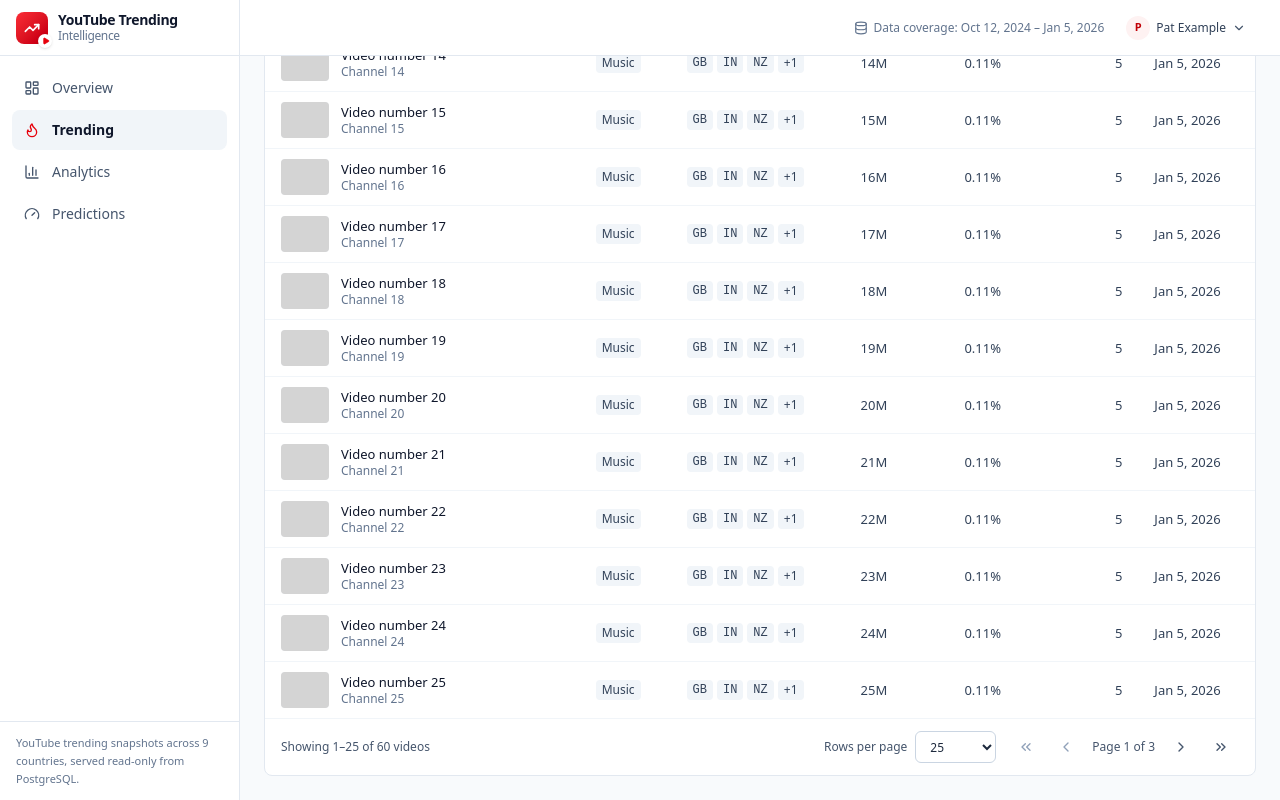
Test case: Trending page › paginates on the server and keeps the page in the URL
(page scrolled)
Expected: the text "Showing 1–25 of 60 videos" is shown, [281,739,430,755]
What coordinates should you click on to do the following:
click the button named "Next page"
I would click on:
 (1181, 747)
Its box is [1163,731,1199,763].
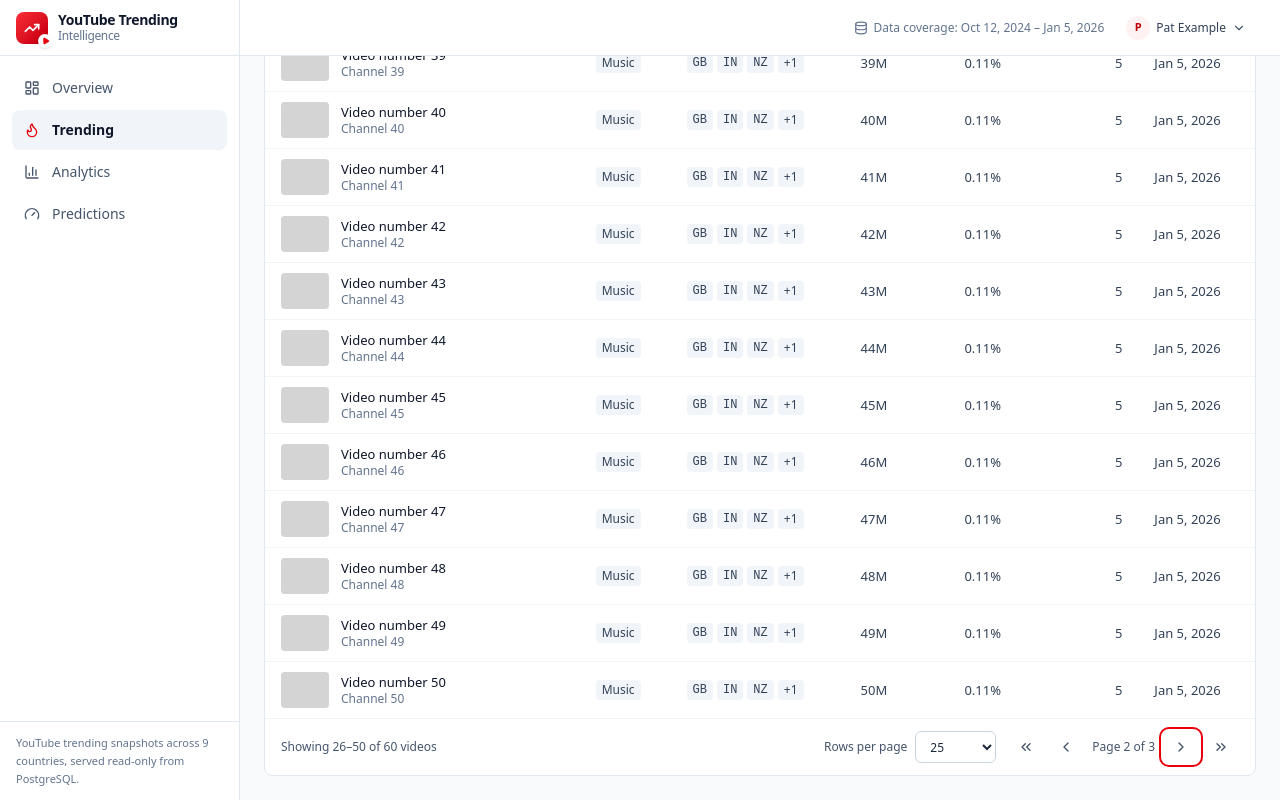
Expected: the text "Showing 26–50 of 60 videos" is shown, [281,739,437,755]
What coordinates should you click on to do the following:
click the button named "Last page"
I would click on:
 (1221, 747)
Its box is [1203,731,1239,763].
(page scrolled)
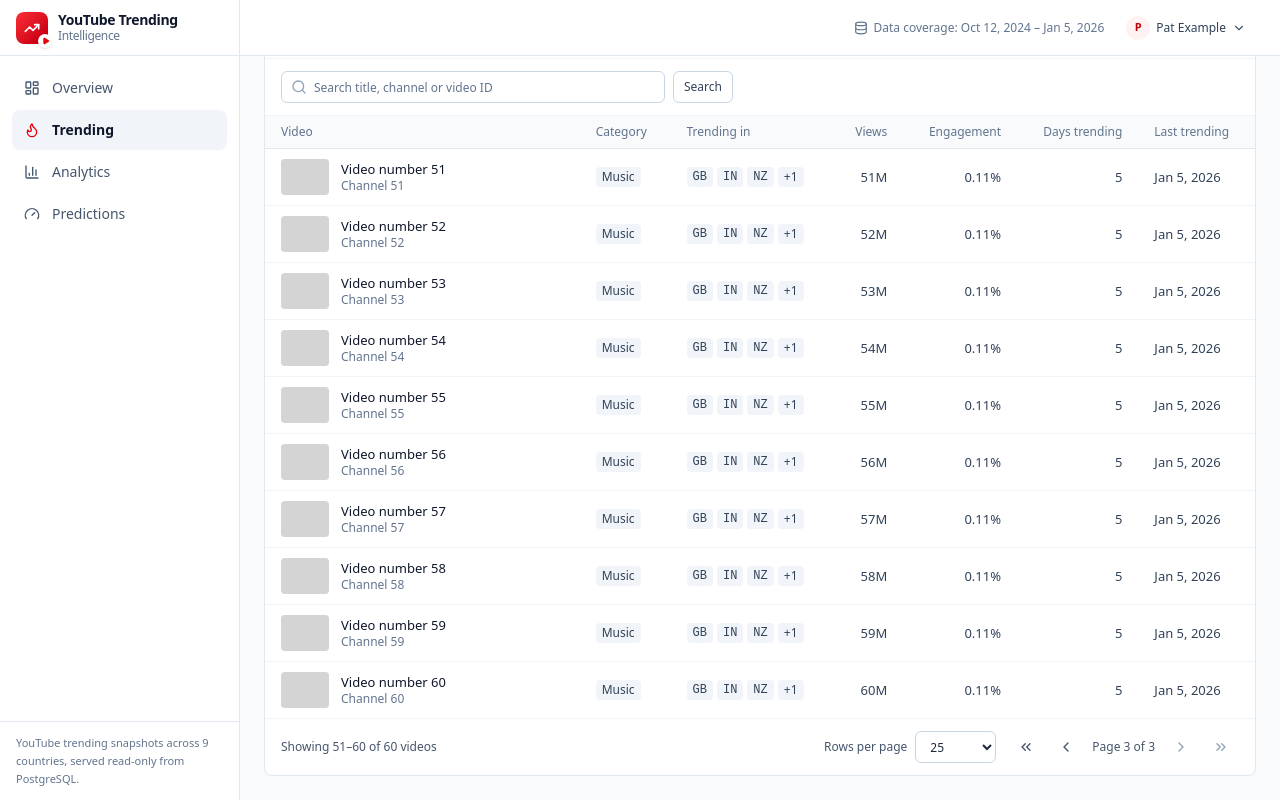
Expected: the button named "Next page" is disabled, [1163,731,1199,763]
Expected: the text "Showing 51–60 of 60 videos" is shown, [281,739,437,755]
